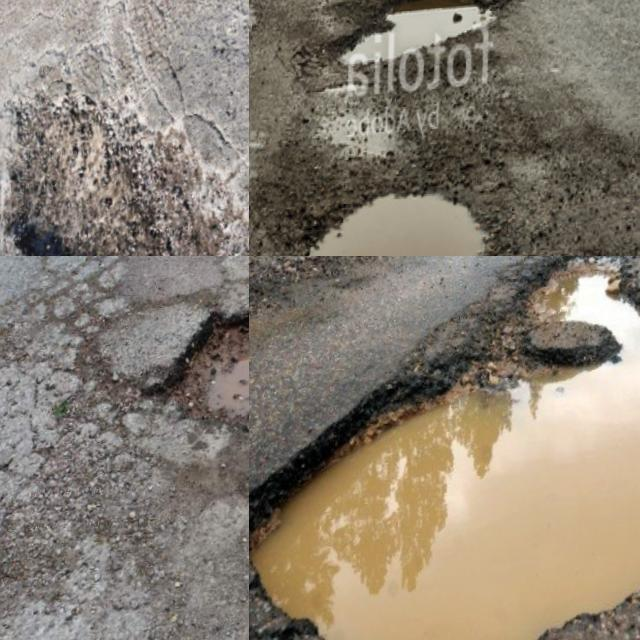Potholes: (249, 256, 640, 640), (289, 0, 543, 136), (0, 138, 249, 256), (298, 137, 530, 256), (163, 256, 249, 511), (249, 0, 295, 105)
